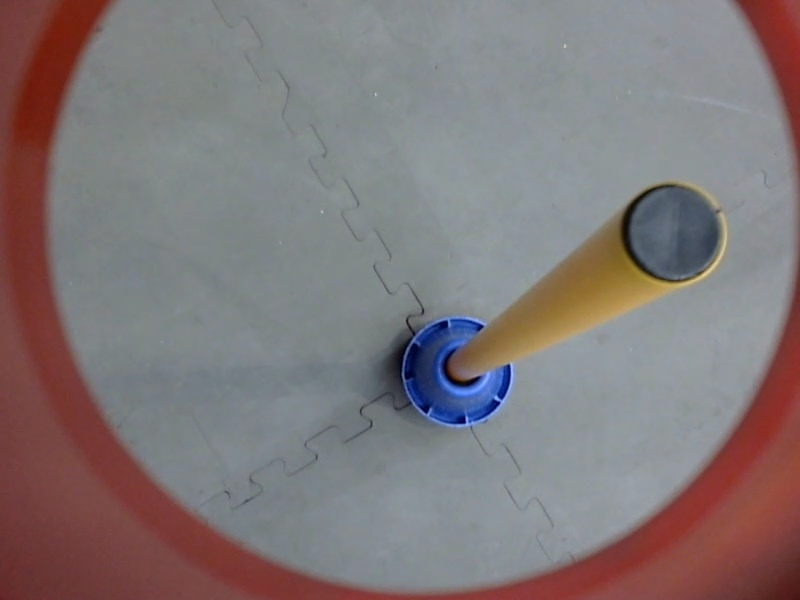tip: (613, 174, 735, 297)
